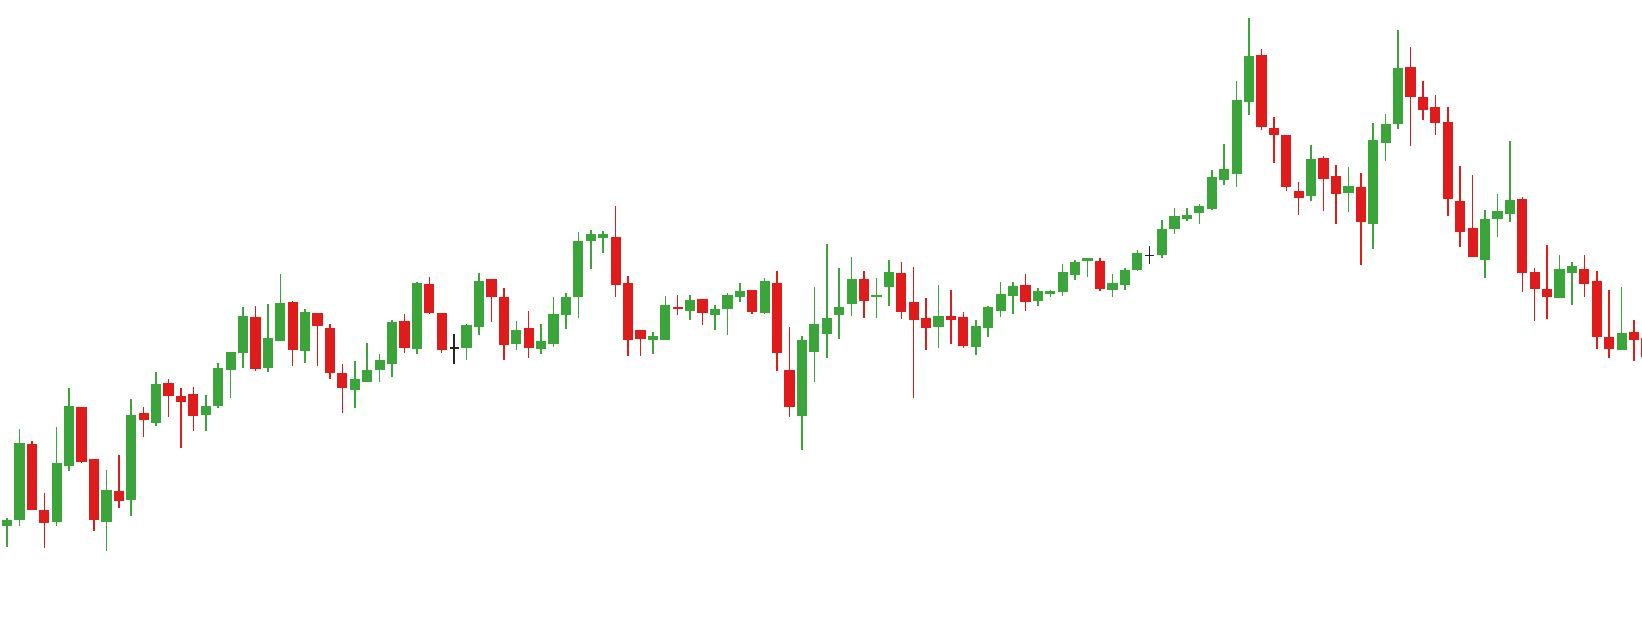buy: (338, 306, 809, 457), (36, 434, 115, 549)
sell: (1253, 27, 1418, 179)
